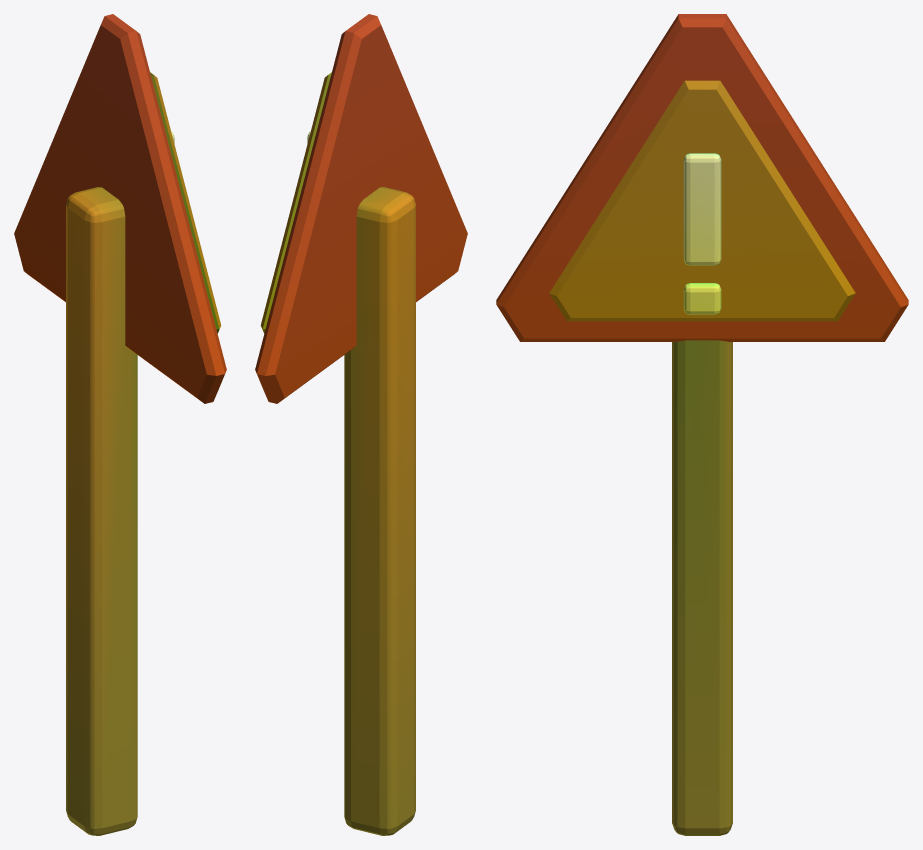
Rendered from Prop_WarningSign.fbx.
3 renders of one model, left to right at view 1: azimuth 30°, elevation 25°; view 2: azimuth 150°, elevation 25°; view 3: azimuth 270°, elevation 25°, orthographic. The views are drawn at different scales.
Visible parts, largest first — view 1: Prop_WarningSign; view 2: Prop_WarningSign; view 3: Prop_WarningSign.
Boxes of the visible parts, left/top/right/bottom form: Prop_WarningSign: left=14, top=14, right=226, bottom=835; Prop_WarningSign: left=255, top=14, right=467, bottom=835; Prop_WarningSign: left=496, top=14, right=908, bottom=835.
Size of the model in its own units: 0.32 by 2.66 by 1.21.
